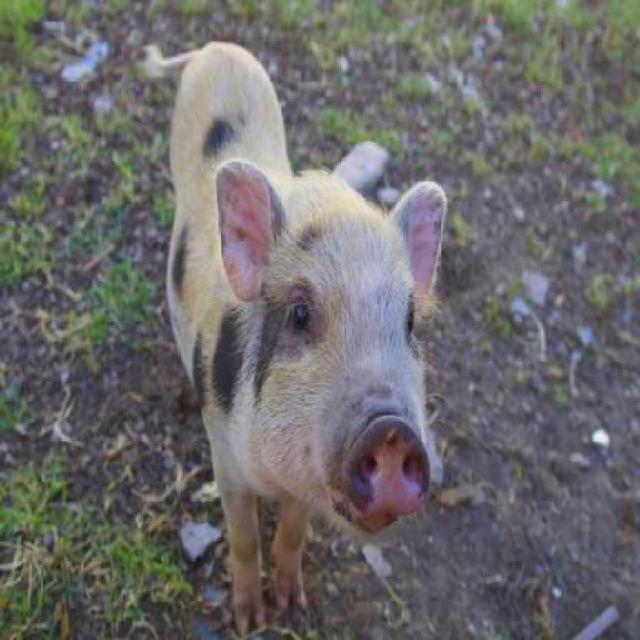Boar: (135, 37, 447, 640), (142, 32, 449, 636)
